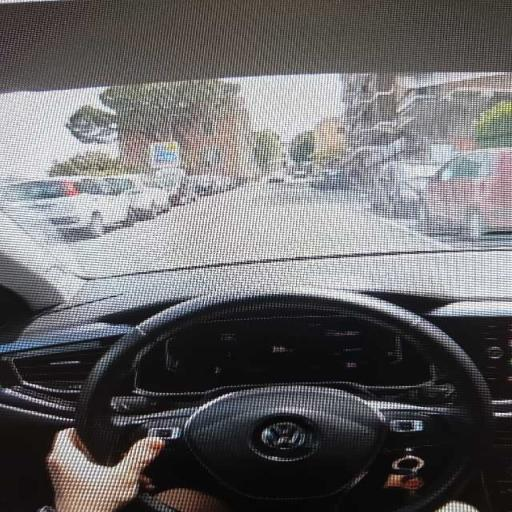car: (0, 0, 511, 175), (423, 149, 511, 238), (0, 177, 128, 236), (104, 175, 169, 219), (148, 168, 198, 206), (184, 173, 241, 195), (266, 169, 291, 183)
lane: (71, 184, 450, 276)
person: (40, 429, 164, 511)
